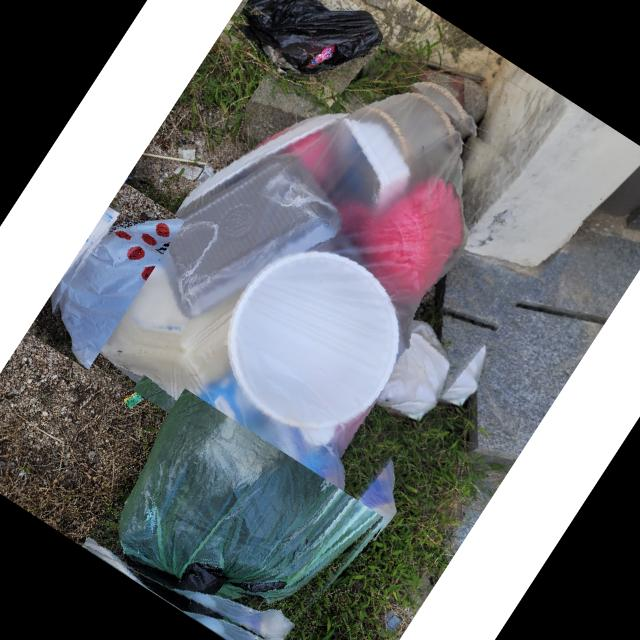general_trashbag: (123, 389, 383, 609)
other_trashbag: (91, 91, 472, 528), (57, 218, 184, 370), (245, 0, 381, 73)
